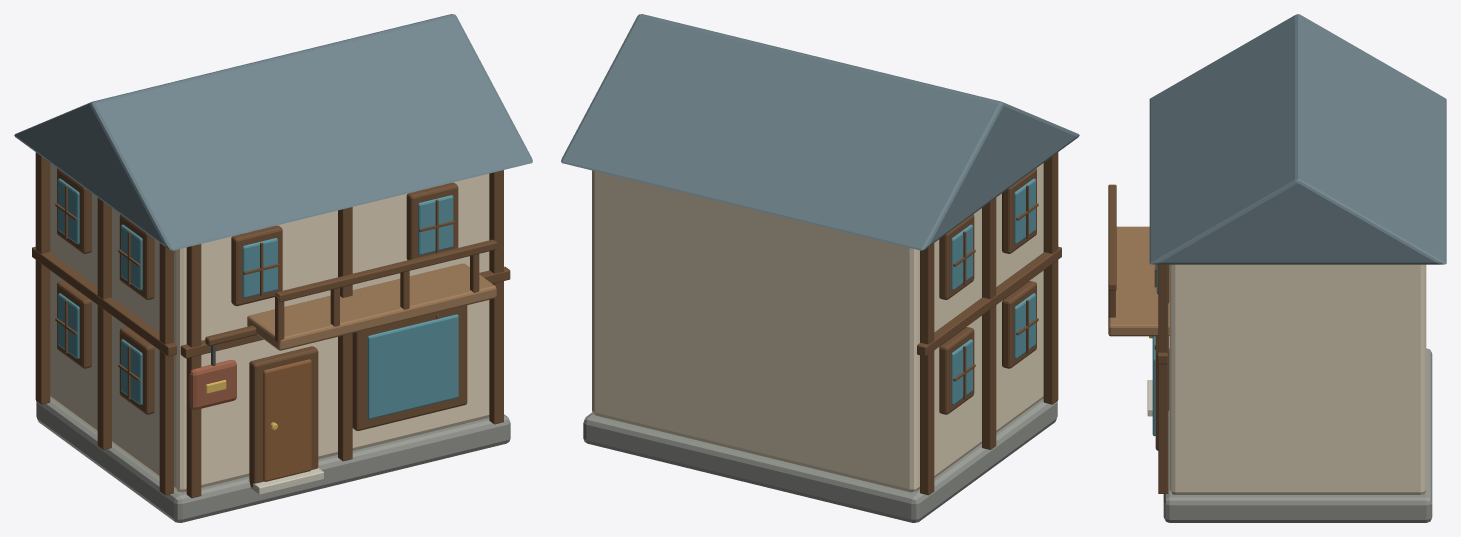
Rendered from temperate-merchant-0.glb.
3 views of the same model, side by side, from view 1: azimuth 30°, elevation 25°; view 2: azimuth 150°, elevation 25°; view 3: azimuth 270°, elevation 25° (orthographic). The views are drawn at different scales.
Parts seen in each view (by area): view 1: Blue slate, Dark beams, Warm lime, Blue glass, Foundation stone, Aged oak, Door oak, Painted sign, Cut limestone; view 2: Warm lime, Blue slate, Dark beams, Foundation stone, Blue glass; view 3: Blue slate, Warm lime, Foundation stone, Aged oak, Dark beams, Blue glass.
Boxes of the visible parts, x1,y1,x2,y2 form: Blue slate: [14, 14, 532, 250]; Dark beams: [32, 152, 510, 498]; Warm lime: [50, 163, 489, 492]; Blue glass: [58, 178, 458, 419]; Foundation stone: [36, 398, 510, 522]; Aged oak: [247, 263, 496, 350]; Door oak: [263, 359, 311, 481]; Painted sign: [189, 360, 236, 409]; Cut limestone: [248, 468, 323, 494]; Warm lime: [592, 163, 1043, 492]; Blue slate: [561, 14, 1079, 250]; Dark beams: [917, 152, 1061, 495]; Foundation stone: [583, 398, 1057, 522]; Blue glass: [951, 178, 1035, 404]; Blue slate: [1149, 14, 1446, 264]; Warm lime: [1169, 264, 1426, 494]; Foundation stone: [1163, 348, 1432, 522]; Aged oak: [1108, 226, 1169, 336]; Dark beams: [1108, 184, 1169, 493]; Blue glass: [1152, 264, 1158, 436].
Bounding box in the file's own units: 3.94 × 3.86 × 3.36.
